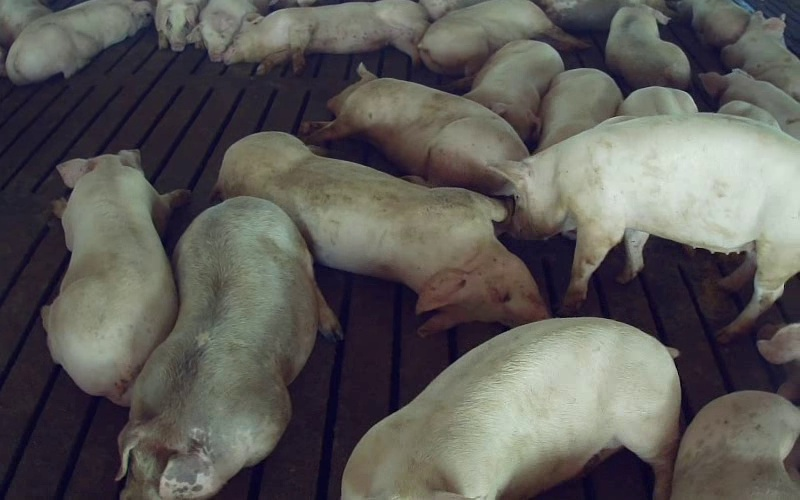pig: (495, 116, 799, 341), (118, 197, 339, 499), (342, 318, 680, 499), (42, 150, 188, 405), (301, 64, 528, 194), (223, 0, 428, 74), (671, 391, 799, 499), (418, 0, 587, 75), (5, 0, 152, 84), (464, 40, 563, 142), (535, 68, 622, 152), (605, 5, 690, 89), (721, 11, 799, 101), (699, 69, 799, 139), (537, 0, 669, 30), (674, 0, 750, 47)
